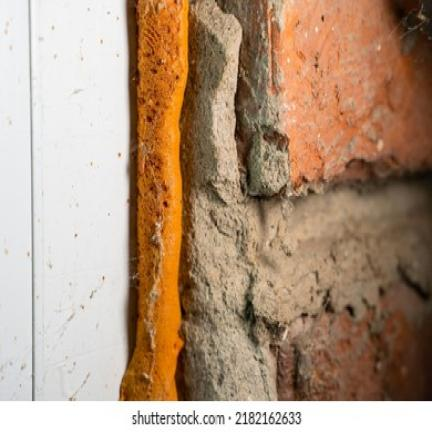besi_tidak_karat: (31, 2, 136, 400)
karat: (121, 0, 187, 400)
